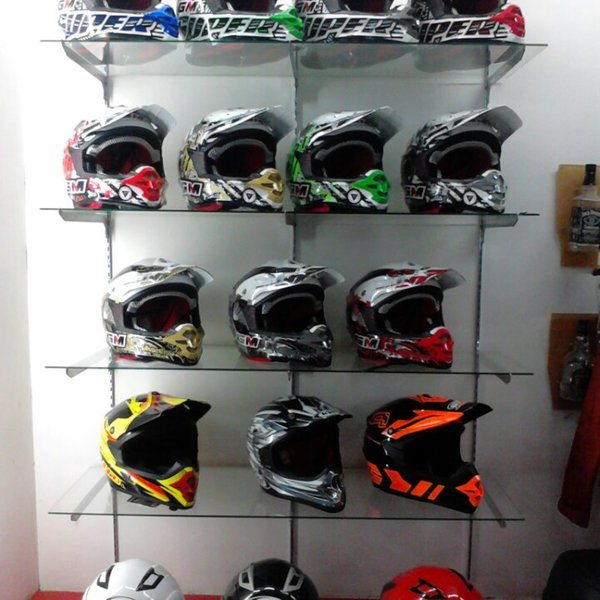with_helmet: (362, 391, 498, 513), (344, 255, 470, 374), (98, 387, 215, 514), (96, 250, 216, 369), (226, 252, 346, 371), (243, 391, 356, 513), (403, 101, 525, 213), (177, 101, 298, 213), (58, 101, 180, 212), (286, 100, 403, 213)
